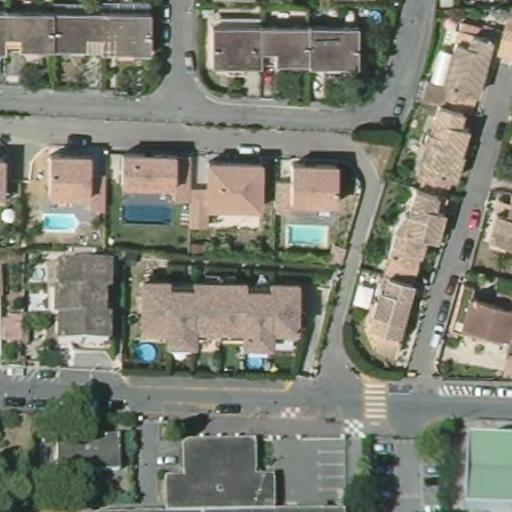pool: (281, 222, 331, 251), (117, 201, 171, 225), (36, 210, 81, 231), (133, 340, 157, 363), (245, 353, 269, 372)
